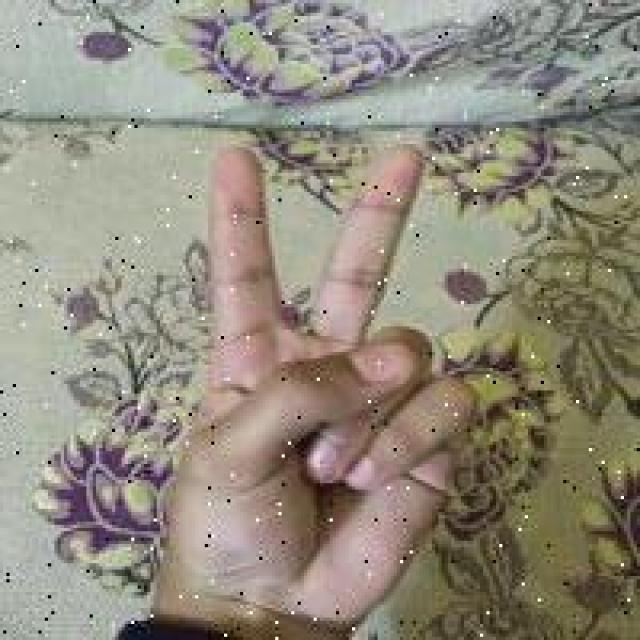V: (157, 139, 486, 613)
